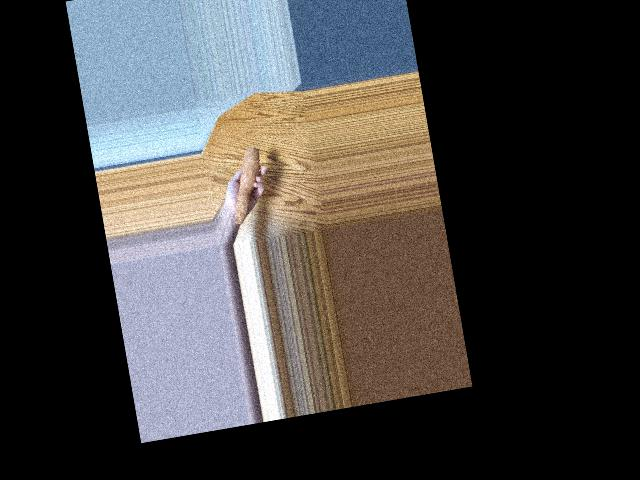sweet_potato: (221, 145, 272, 227)
